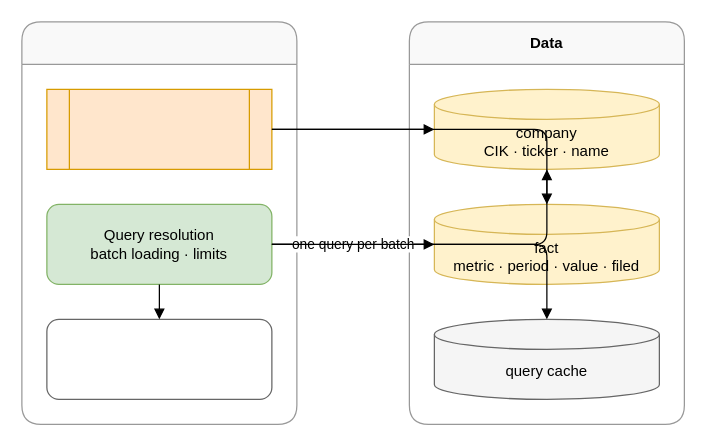
Image size: 706x446. Some labels were removed from this diagram. Each missing label, with the box of its shape:
Capabilities: (21, 21, 297, 424)
Import concept mapping · restatements: (46, 88, 272, 169)
Ratios BigDecimal · null-safe: (46, 318, 272, 399)
